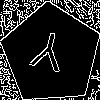Y: (26, 29, 69, 82)
